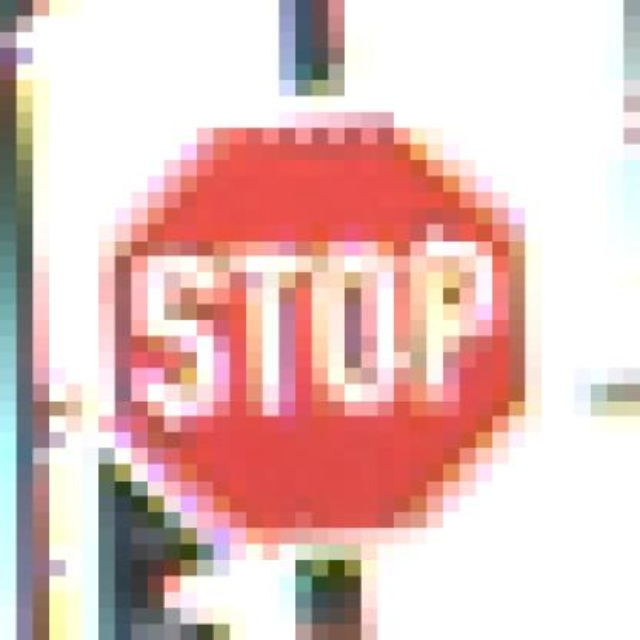Dừng lại: (102, 114, 532, 552)
